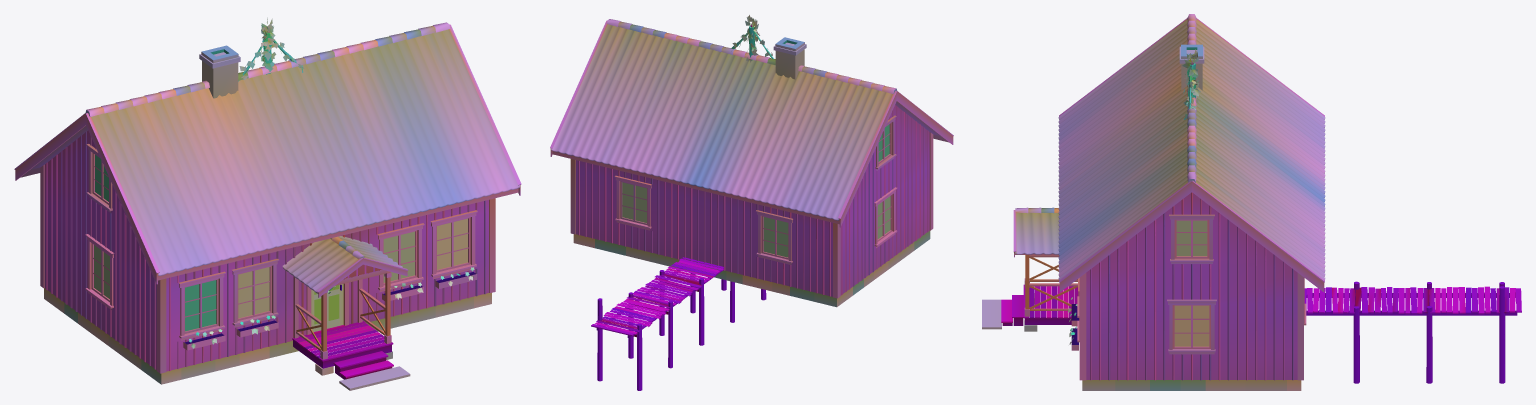
File: summer-props.glb
3 renders of one model, left to right at view 1: azimuth 30°, elevation 25°; view 2: azimuth 150°, elevation 25°; view 3: azimuth 270°, elevation 25°, orthographic. The views are drawn at different scales.
Visible parts, largest first — view 1: cottage, maypole; view 2: cottage, jetty, maypole; view 3: cottage, jetty, maypole.
Boxes of the visible parts, left/top/right/bottom form: cottage: left=14, top=22, right=521, bottom=390; maypole: left=238, top=17, right=303, bottom=81; cottage: left=550, top=19, right=953, bottom=307; jetty: left=591, top=257, right=766, bottom=390; maypole: left=731, top=15, right=775, bottom=65; cottage: left=982, top=14, right=1325, bottom=390; jetty: left=1304, top=281, right=1521, bottom=383; maypole: left=1182, top=49, right=1200, bottom=119.
Bounding box in the file's own units: 10.29 × 9.3 × 14.1.
